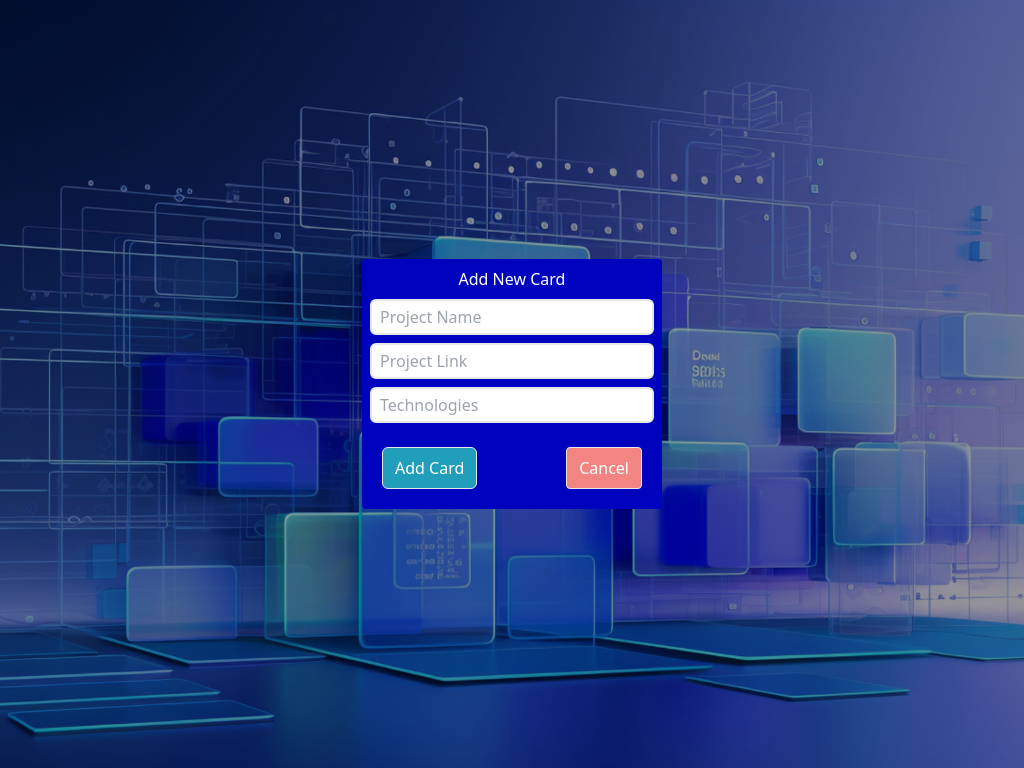
Test: CardForm Component › Successfully clears form after submit
Type "New Project" into the field with placeholder "Project Name". click: (512, 317)
box: [370,299,654,335]
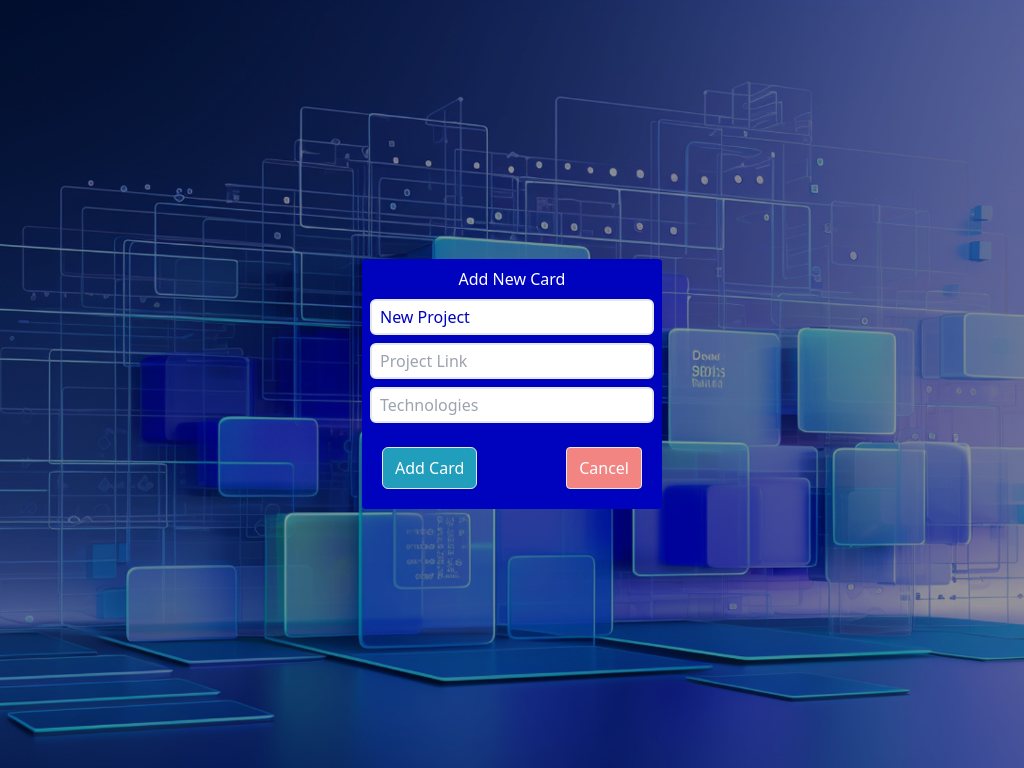
Type "https://example.com" into the field with placeholder "Project Link". click: (512, 361)
box: [370,343,654,379]
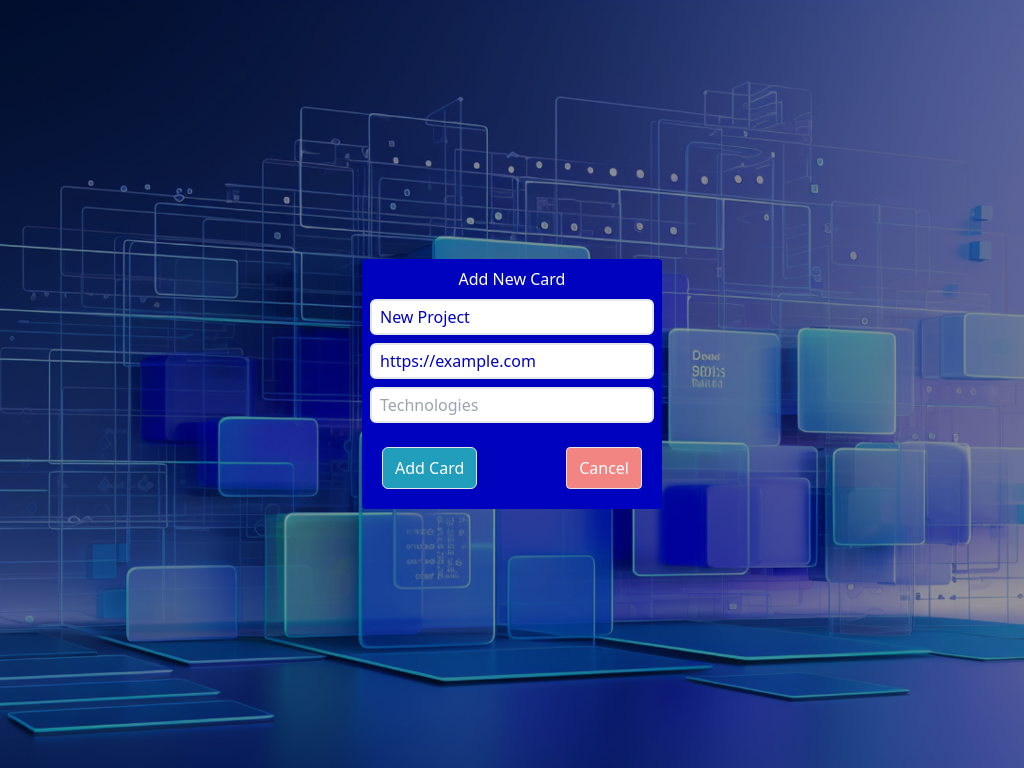
Type "React, TypeScript" into the field with placeholder "Technologies". click: (512, 405)
box: [370,387,654,423]
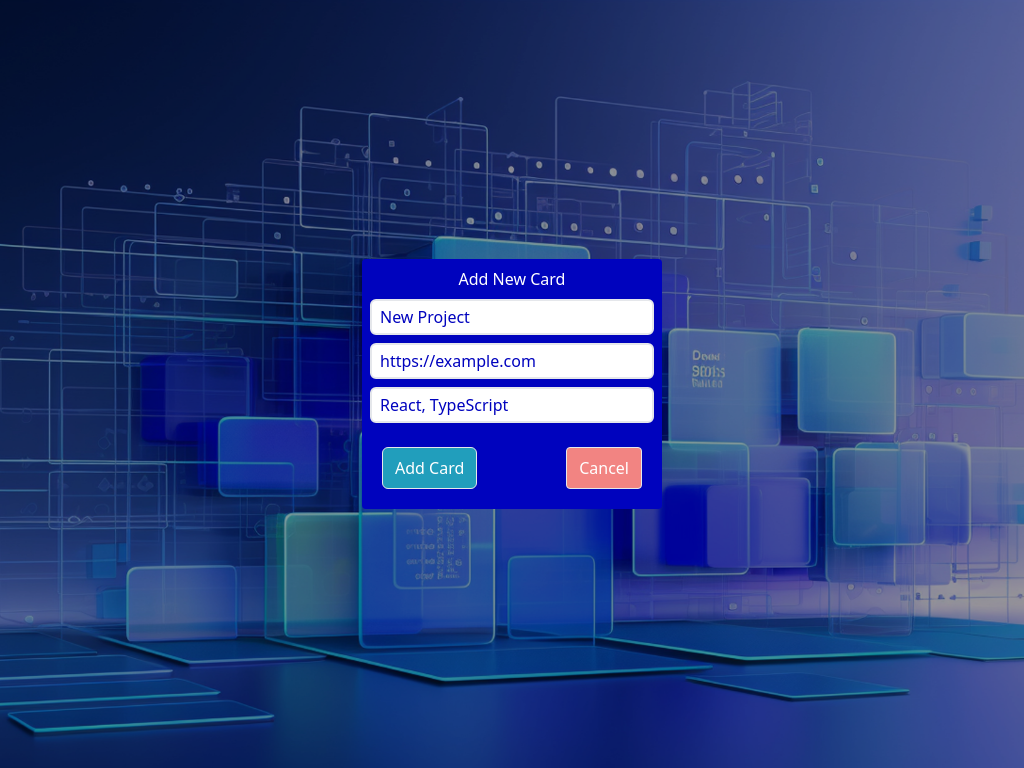
Submit the form with test id "card-form", box [362,259,662,509]
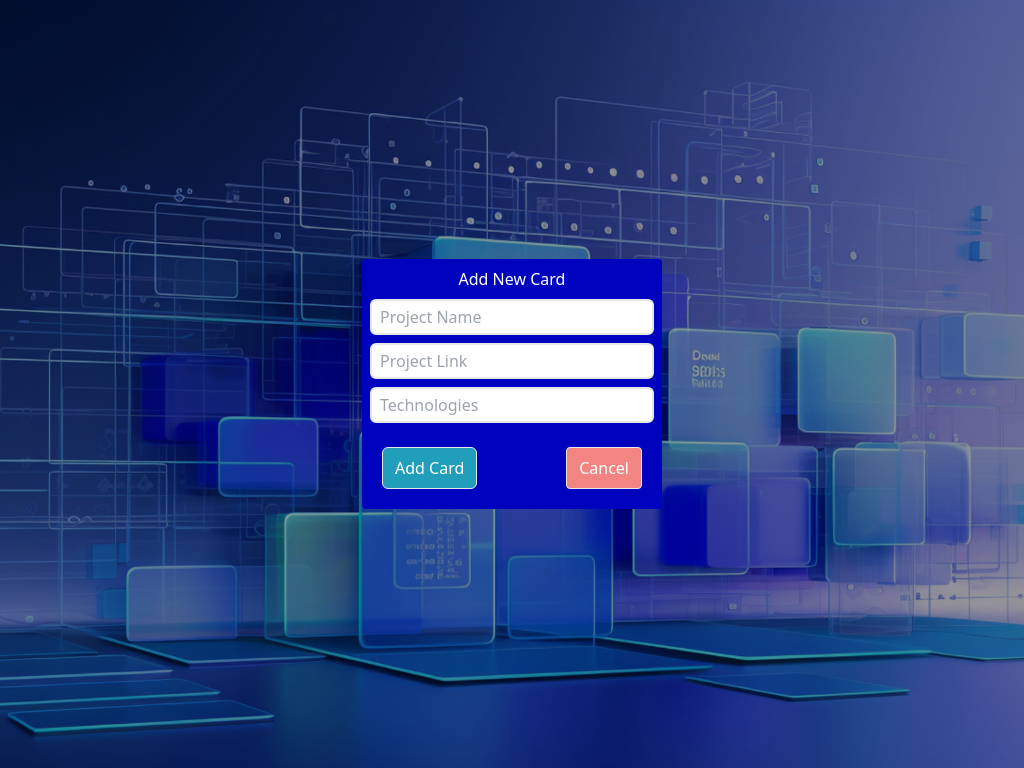
Expected: the field with placeholder "Project Name" is empty, [370,299,654,335]
Expected: the field with placeholder "Project Link" is empty, [370,343,654,379]
Expected: the field with placeholder "Technologies" is empty, [370,387,654,423]
